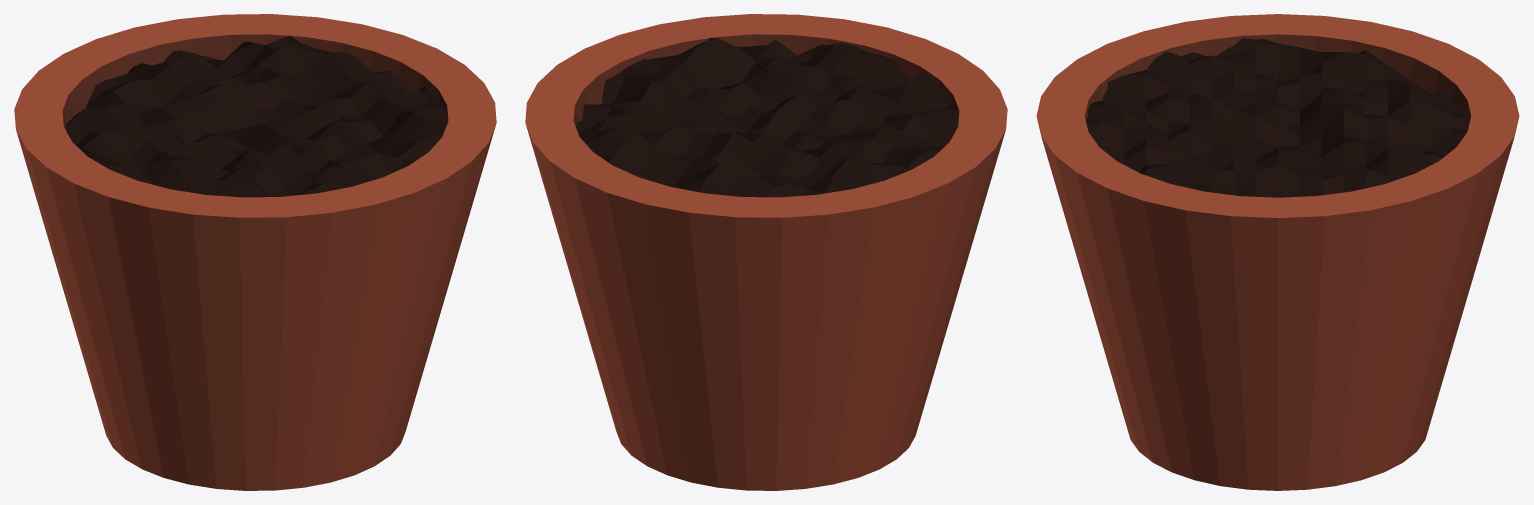
Rendered from pot.glb.
The picture shows the model from 3 angles, left to right: view 1: azimuth 30°, elevation 25°; view 2: azimuth 150°, elevation 25°; view 3: azimuth 270°, elevation 25°; orthographic projection.
Parts seen in each view (by area): view 1: pot; view 2: pot; view 3: pot.
Boxes of the visible parts, <box> form: pot: <box>14,14,496,490</box>; pot: <box>525,14,1007,490</box>; pot: <box>1036,14,1519,490</box>.
Size of the model in its own units: 3.53 by 2.58 by 3.53.
